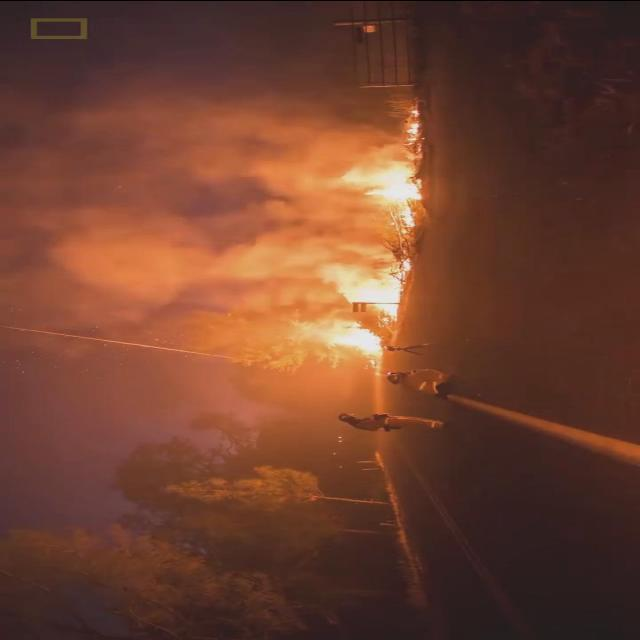Fire: (316, 255, 412, 321), (333, 163, 425, 228), (315, 326, 383, 364), (398, 108, 421, 140)
